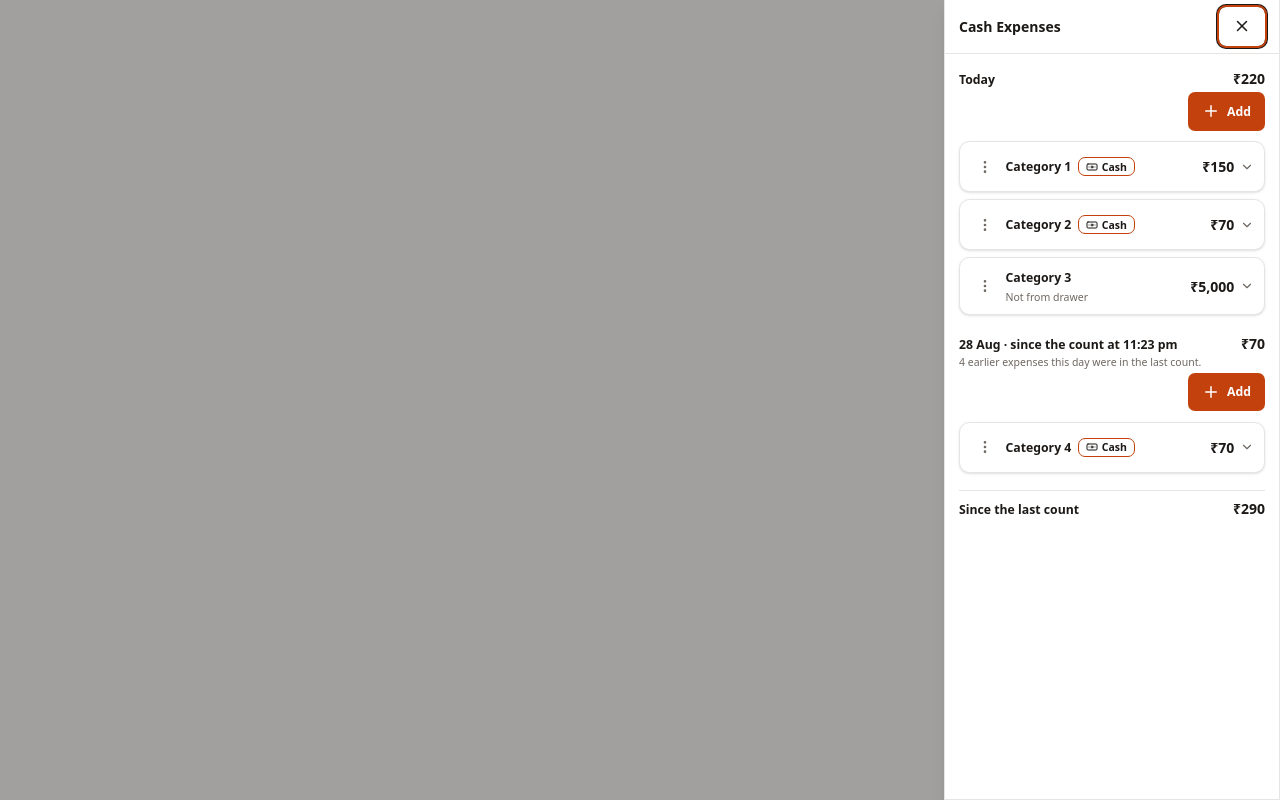
it: Cash Expenses opens the expense list, by business date › stays open when the Add form inside it is dismissed
Click the button with aria-label "add expense".
click(1226, 111)  # box [1188,92,1265,130]
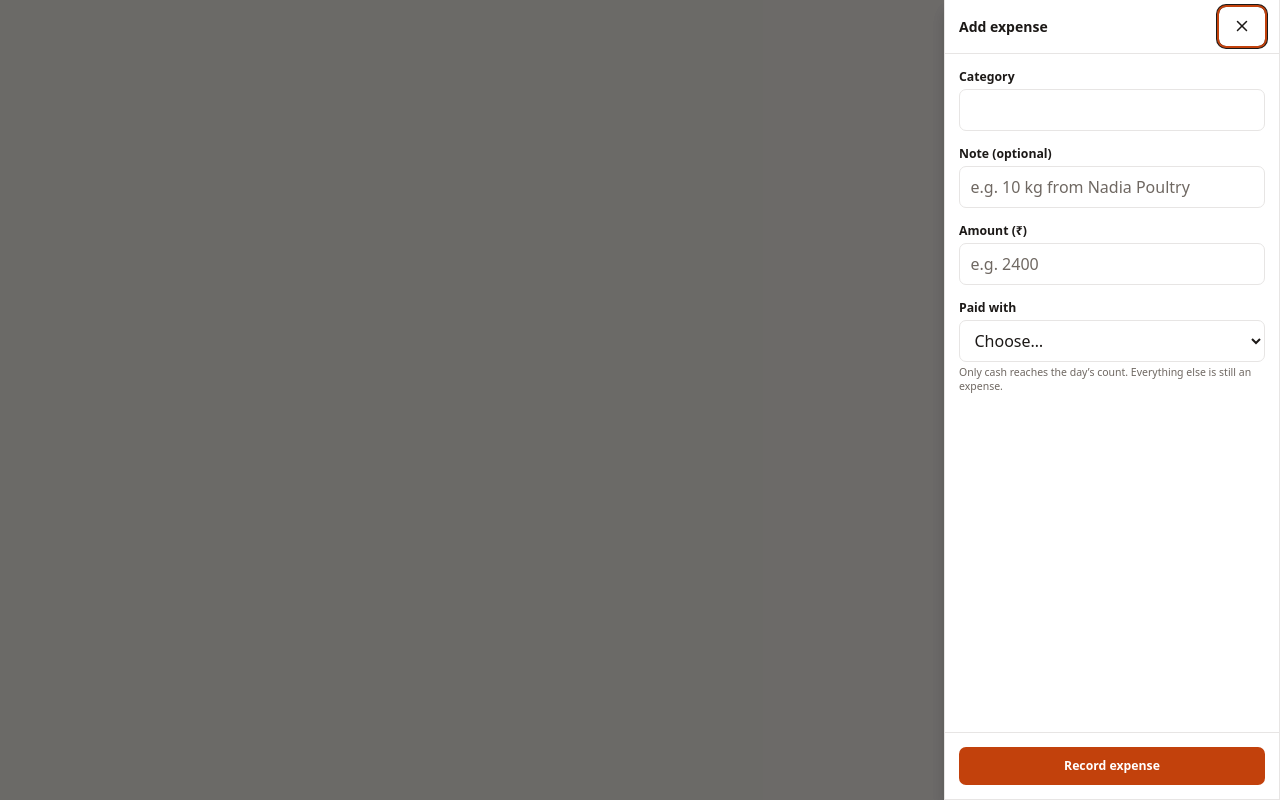
Expected: the dropdown with test id "expense-category" is shown, [959,88,1265,130]
Expected: the number of buttons named "close" is 2
Click the button named "close".
click(1242, 26)  # box [1219,7,1265,46]
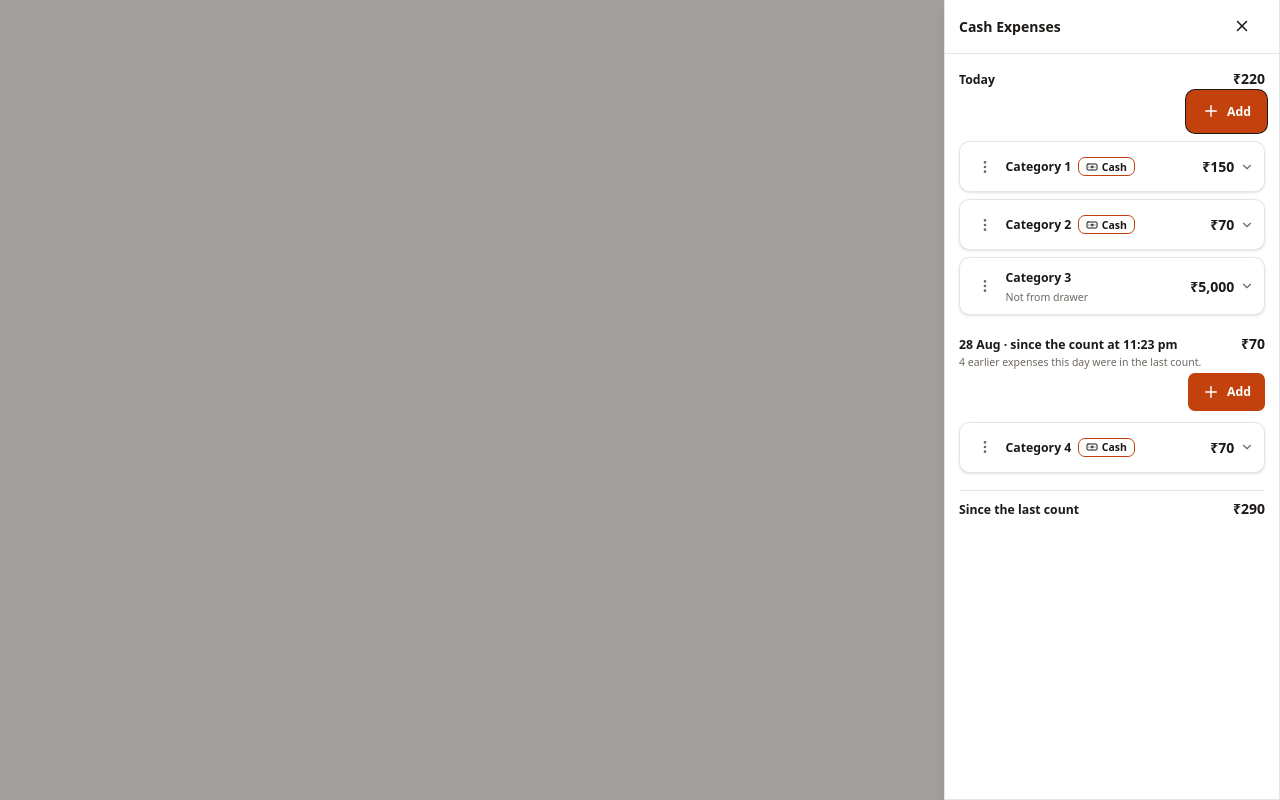
Expected: the element with test id "expenses-breakdown" is shown, [959,68,1265,519]
Expected: the label with test id "expense-category" is gone
